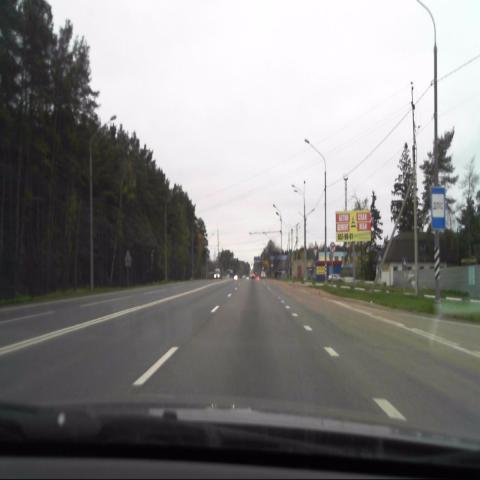7_12: (431, 187, 444, 229)
